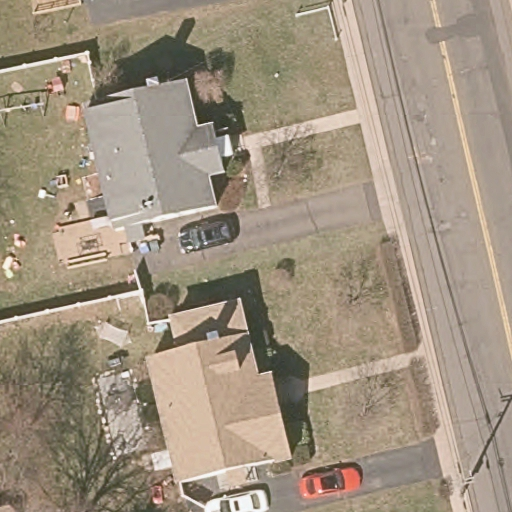DT: (295, 1, 341, 43), (448, 458, 486, 503)
